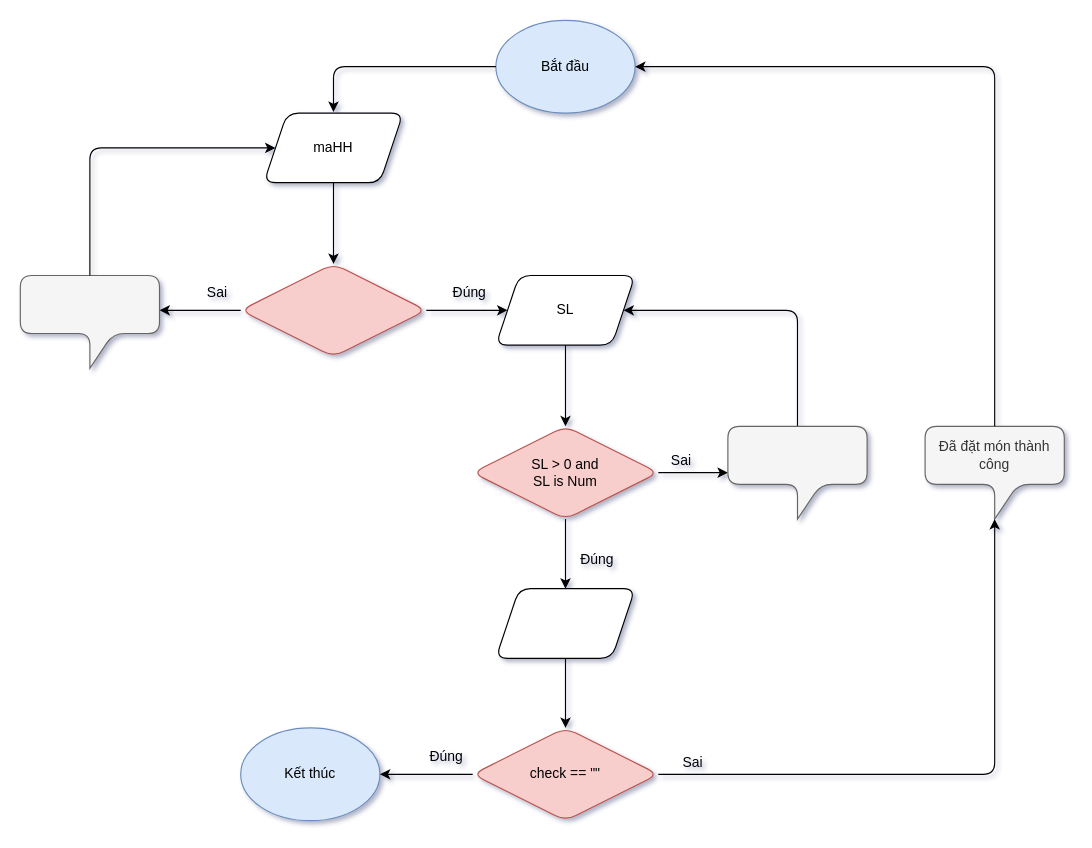
This 1092x848 diagram has some shape labels left out. The shapes that lost their labels are listed below. From the top down, each one's box as (x1, y1, x2, y2) in pixels, then its label:
(19, 274, 160, 368): Không tồn tại
(240, 263, 426, 357): maHH == maHT
(727, 425, 867, 519): SL là số lớn hơn 0
(495, 588, 635, 658): check(string)
